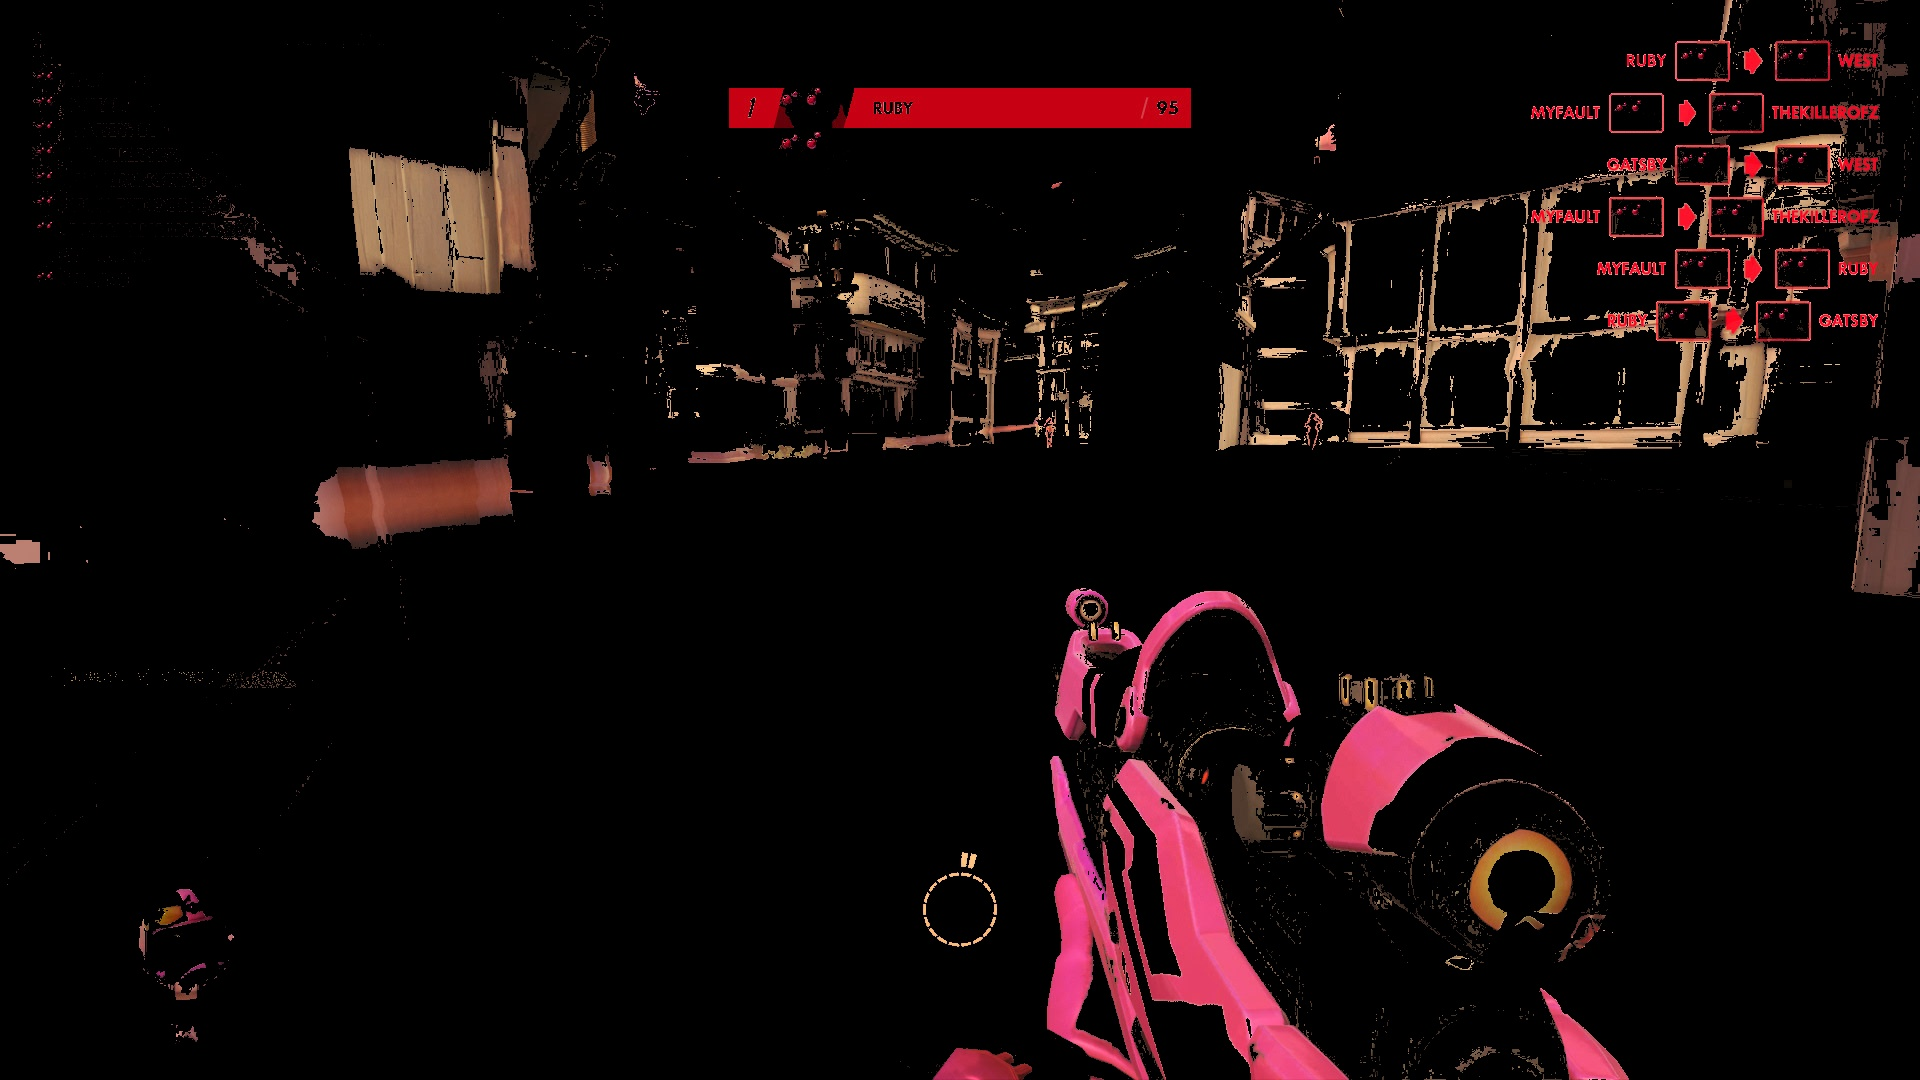widowmaker: (1296, 407, 1327, 458), (1036, 411, 1058, 448)
